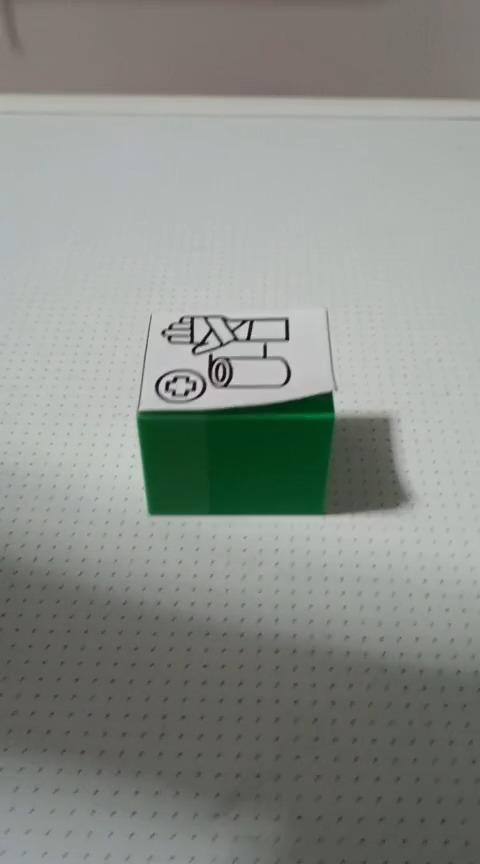Bandages: (135, 305, 338, 516)
